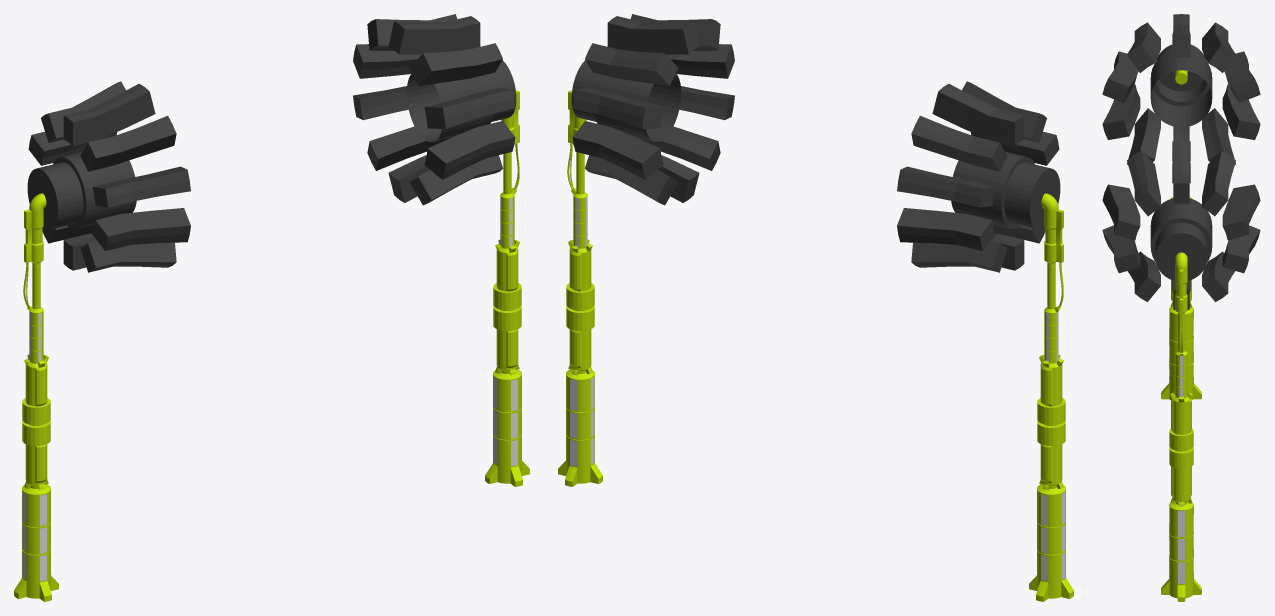
Rendered from SmallGearSupport.fbx.
The picture shows the model from 3 angles, left to right: view 1: azimuth 30°, elevation 25°; view 2: azimuth 150°, elevation 25°; view 3: azimuth 270°, elevation 25°; orthographic projection. The views are drawn at different scales.
Visible parts, largest first — view 1: GearSupportRotator, GearSupportLow, GearSupportMid, GearSupportTop; view 2: GearSupportRotator, GearSupportLow, GearSupportMid, GearSupportTop; view 3: GearSupportRotator, GearSupportLow, GearSupportMid, GearSupportTop.
Boxes of the visible parts, left/top/right/bottom form: GearSupportRotator: left=27, top=14, right=516, bottom=272; GearSupportLow: left=14, top=369, right=529, bottom=601; GearSupportMid: left=22, top=239, right=521, bottom=490; GearSupportTop: left=23, top=90, right=519, bottom=363; GearSupportRotator: left=571, top=14, right=1060, bottom=272; GearSupportLow: left=558, top=369, right=1073, bottom=601; GearSupportMid: left=566, top=239, right=1065, bottom=490; GearSupportTop: left=567, top=90, right=1063, bottom=363; GearSupportRotator: left=1102, top=14, right=1260, bottom=309; GearSupportLow: left=1161, top=307, right=1201, bottom=601; GearSupportMid: left=1169, top=197, right=1193, bottom=506; GearSupportTop: left=1175, top=70, right=1187, bottom=398.
Size of the model in its own units: 2014 by 1799 by 632.
